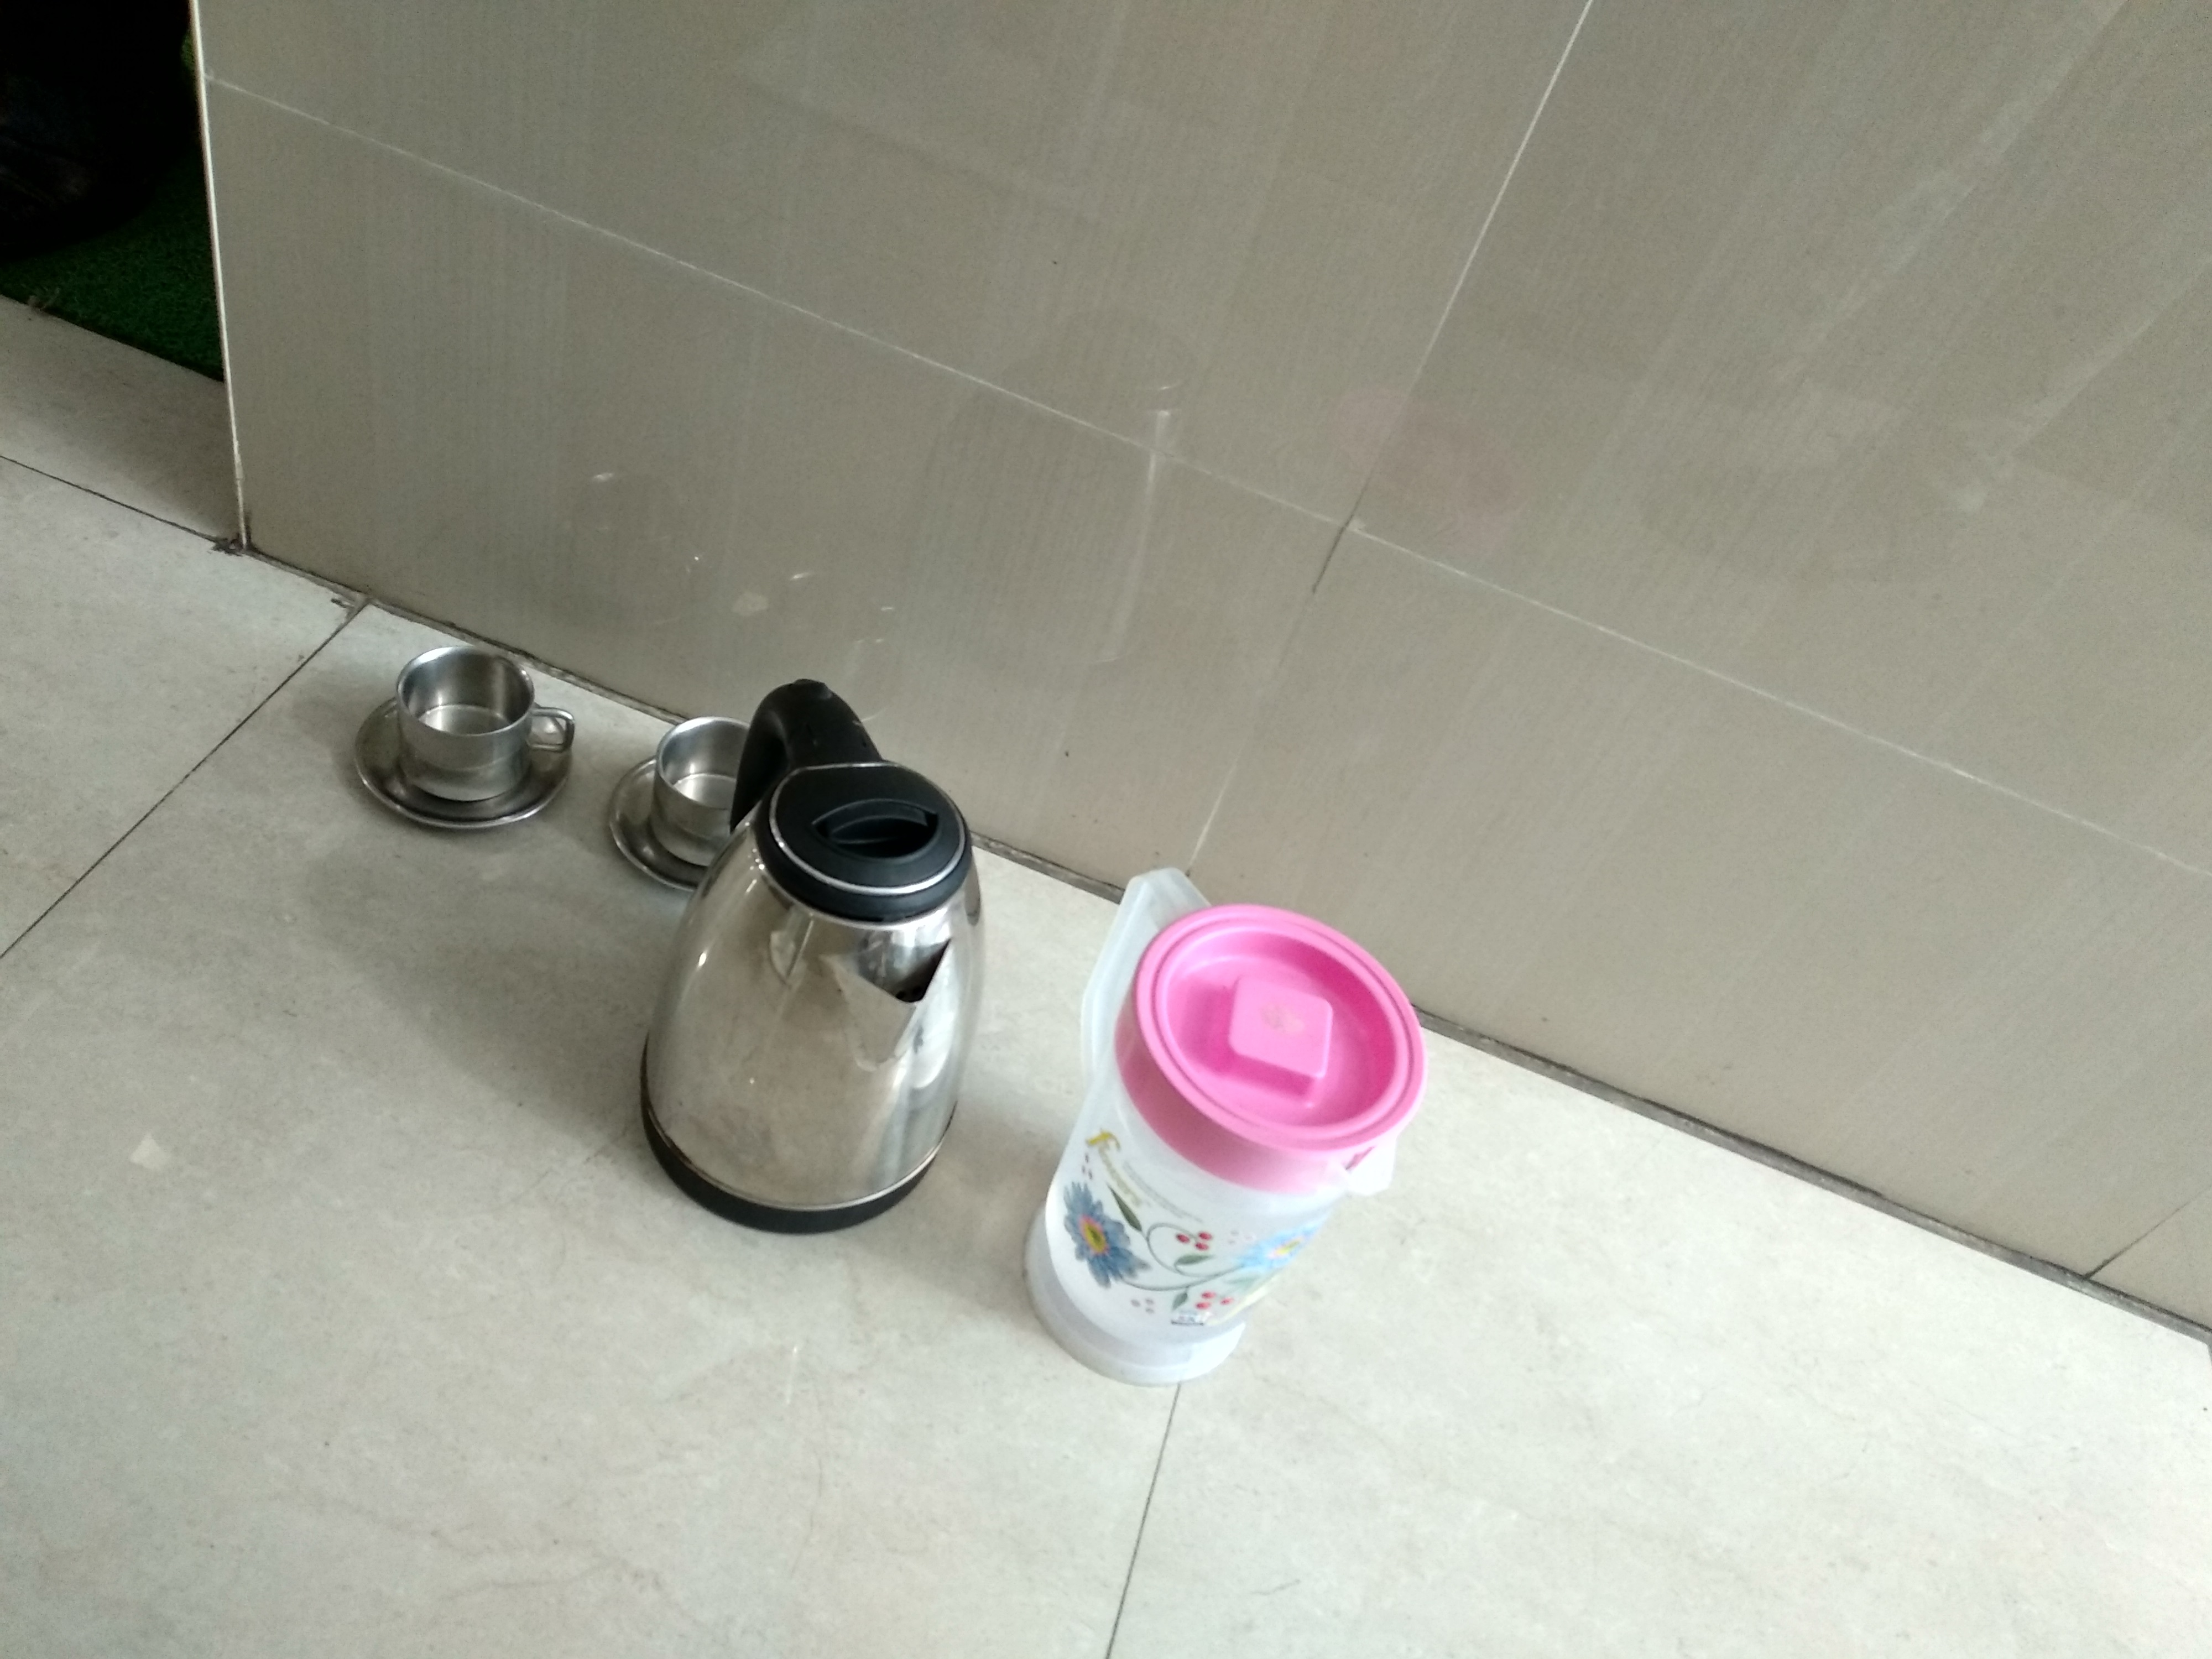CUP: (348, 619, 577, 852), (648, 723, 763, 863)
JUG: (1045, 812, 1437, 1415), (639, 662, 996, 1258)
